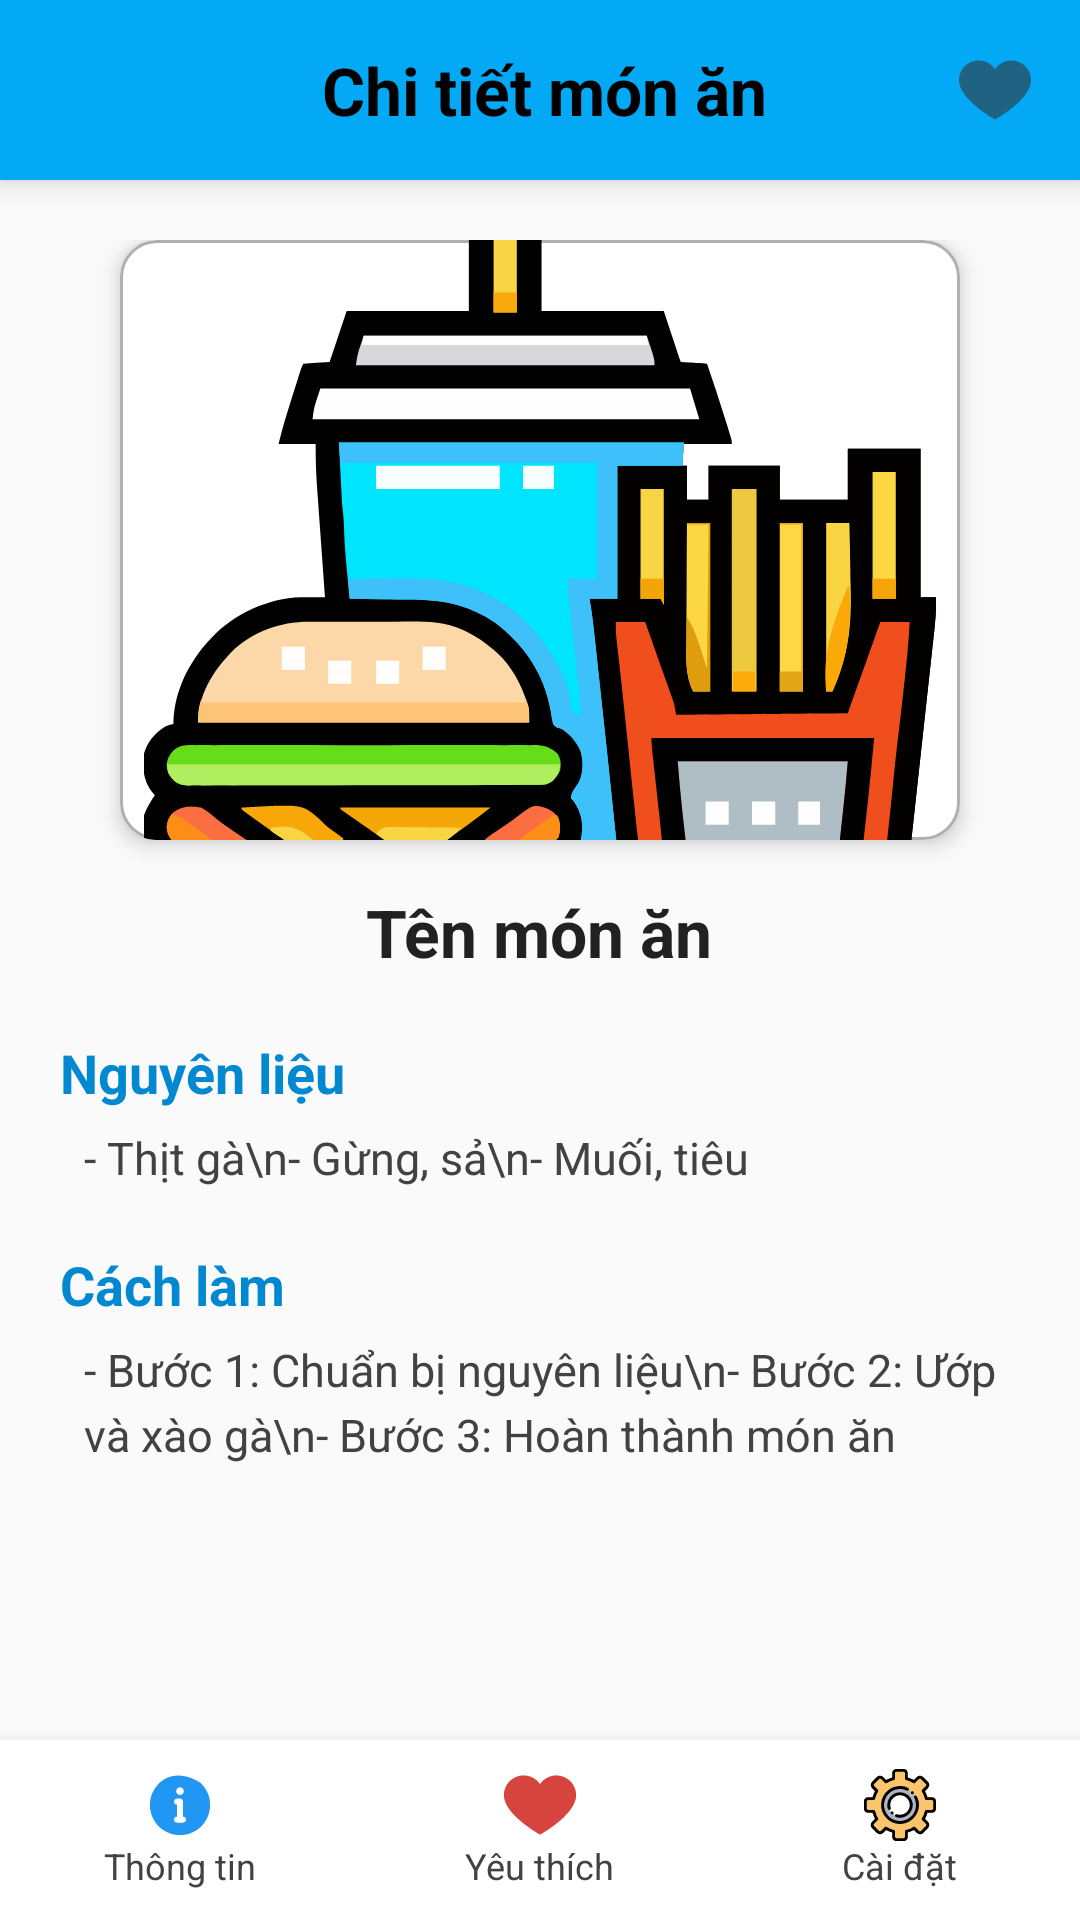

Locate icon controls on the screen. Image size 1080*1920, boxes as (x1, y1, x2, y2).
heart: (504, 1775, 576, 1835)
